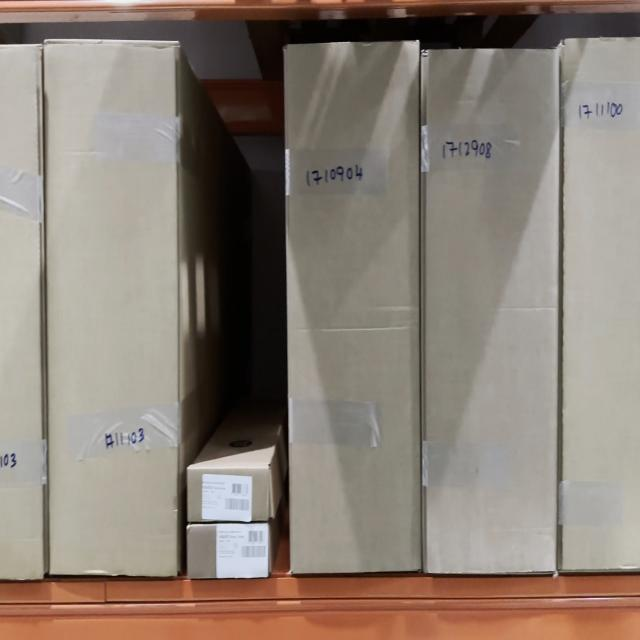box: (46, 43, 179, 574), (424, 50, 556, 570), (290, 46, 421, 568), (188, 466, 268, 520), (188, 527, 269, 574)
